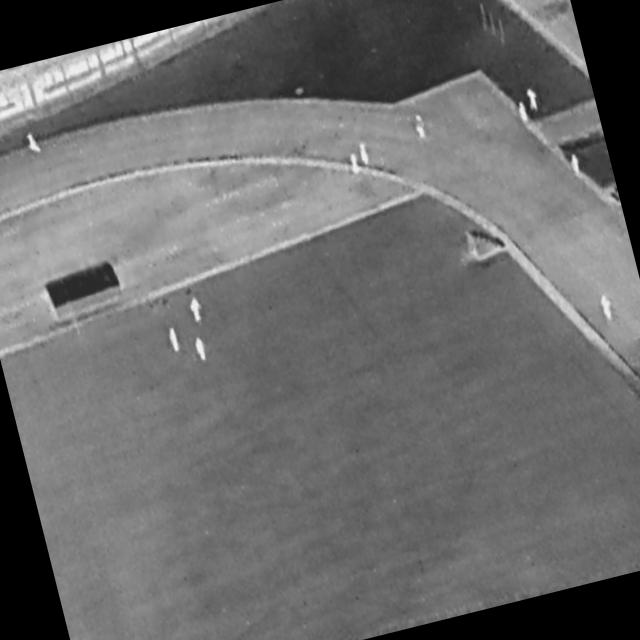person: (599, 293, 616, 322), (189, 297, 205, 323), (412, 114, 428, 140), (195, 337, 210, 363), (526, 88, 541, 113), (26, 132, 42, 155), (168, 328, 182, 354), (517, 101, 531, 127), (349, 152, 362, 176), (571, 154, 583, 178), (359, 143, 371, 167)
